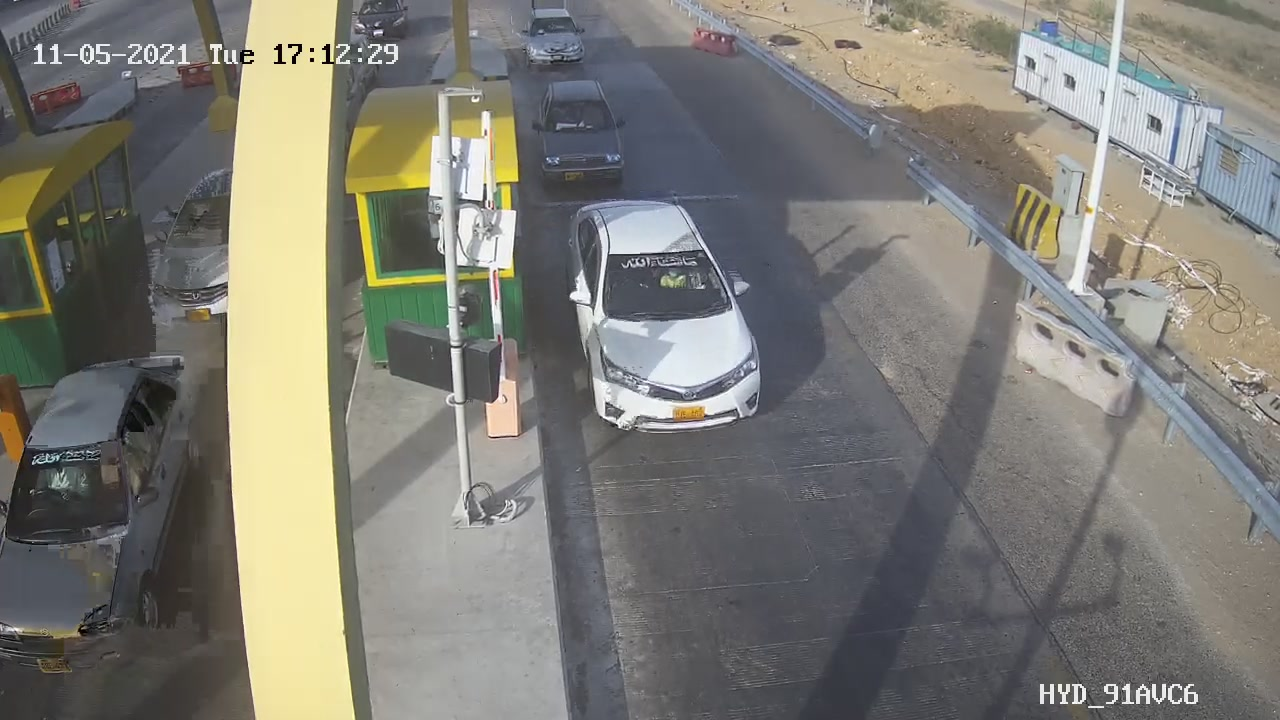F1: (542, 178, 796, 453), (518, 65, 647, 200)
